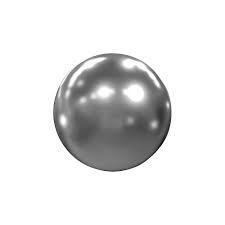steelball: (50, 49, 173, 173)
